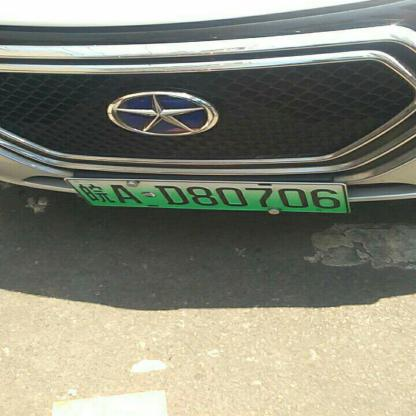lp: (66, 180, 349, 212)
